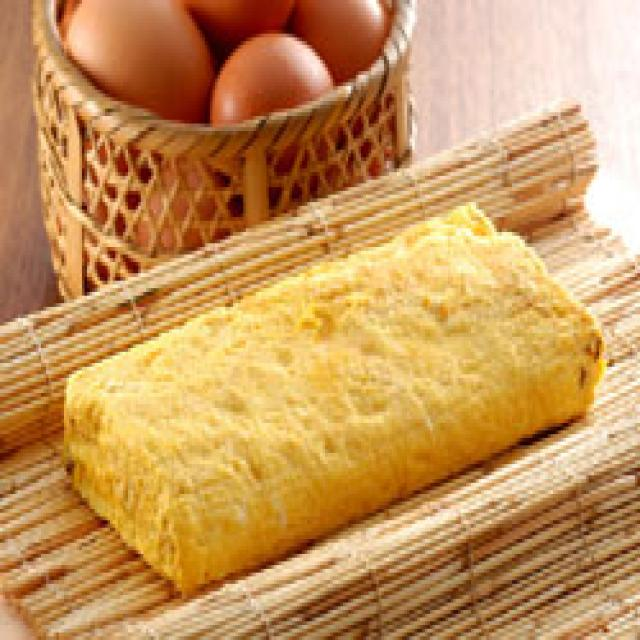鸡蛋料理: (51, 183, 602, 610)
